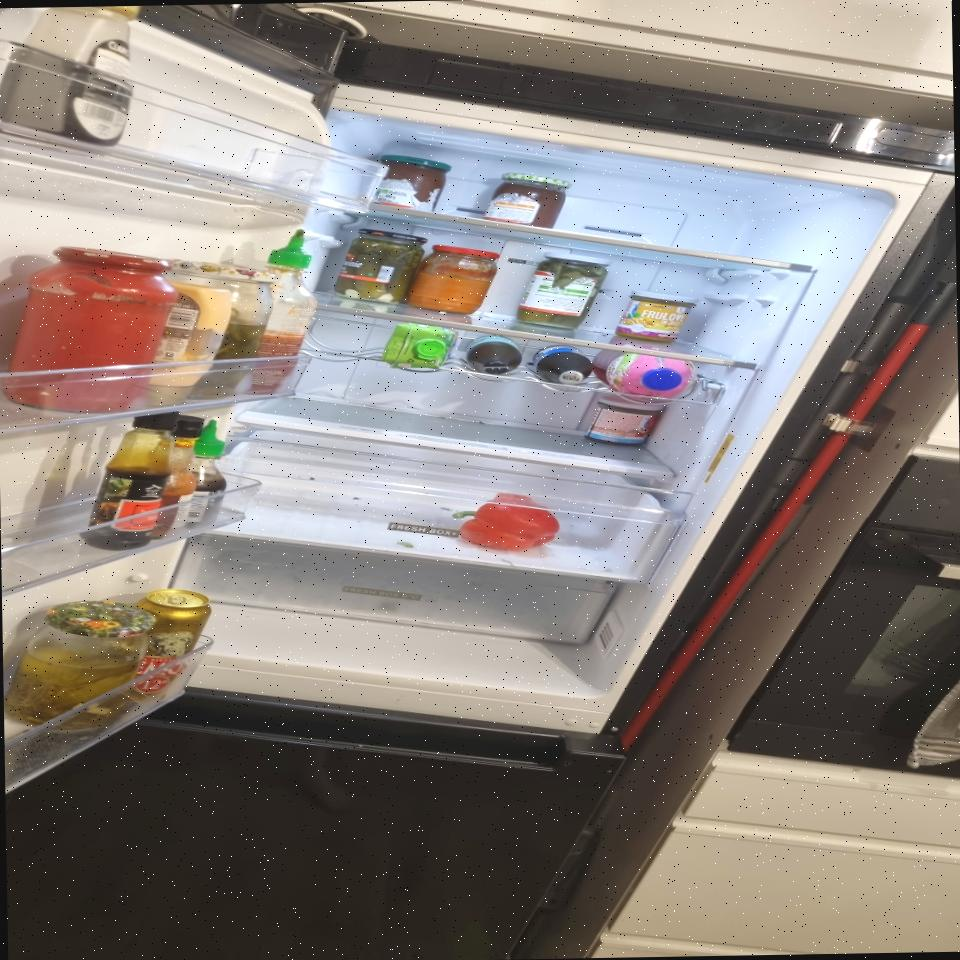bell pepper: (451, 492, 562, 552)
